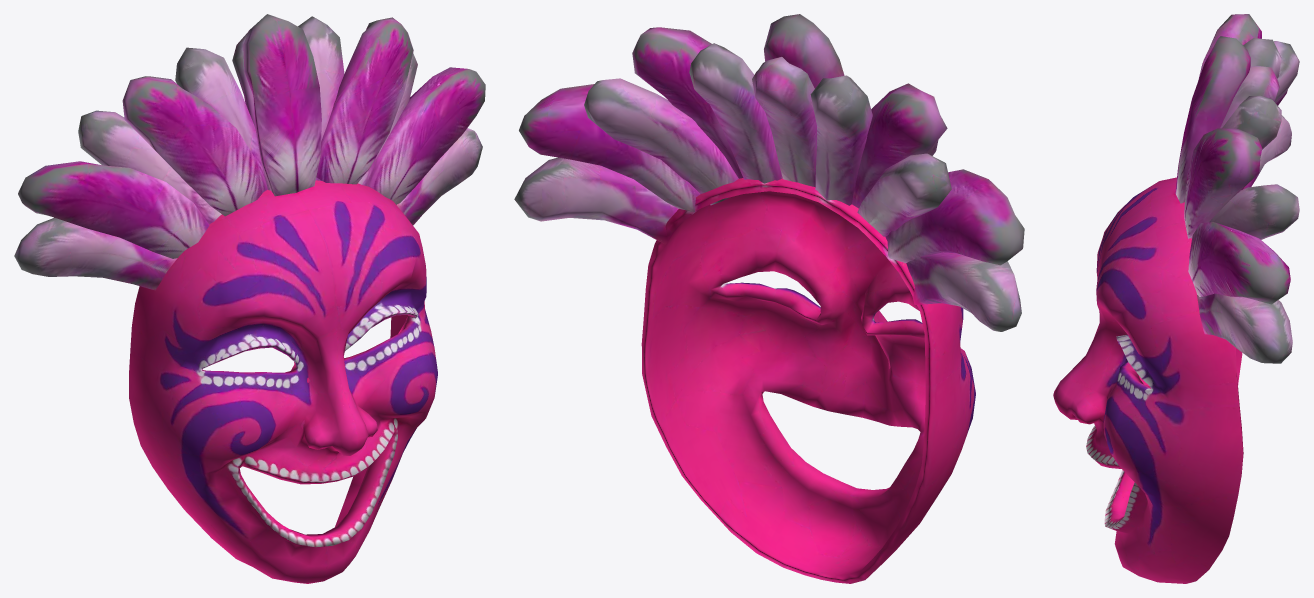
File: masskara-pink.glb
3 views of the same model, side by side, from view 1: azimuth 30°, elevation 25°; view 2: azimuth 150°, elevation 25°; view 3: azimuth 270°, elevation 25° (orthographic). The views are drawn at different scales.
Visible parts, largest first — view 1: geometry_0; view 2: geometry_0; view 3: geometry_0.
Part boxes in pixels (x1,y1,x2,y2): geometry_0: (14,14,485,583); geometry_0: (514,14,1024,583); geometry_0: (1053,14,1299,583).
Bounding box in the file's own units: 0.9028 × 1 × 0.4168.
1 material, 1 textured.
